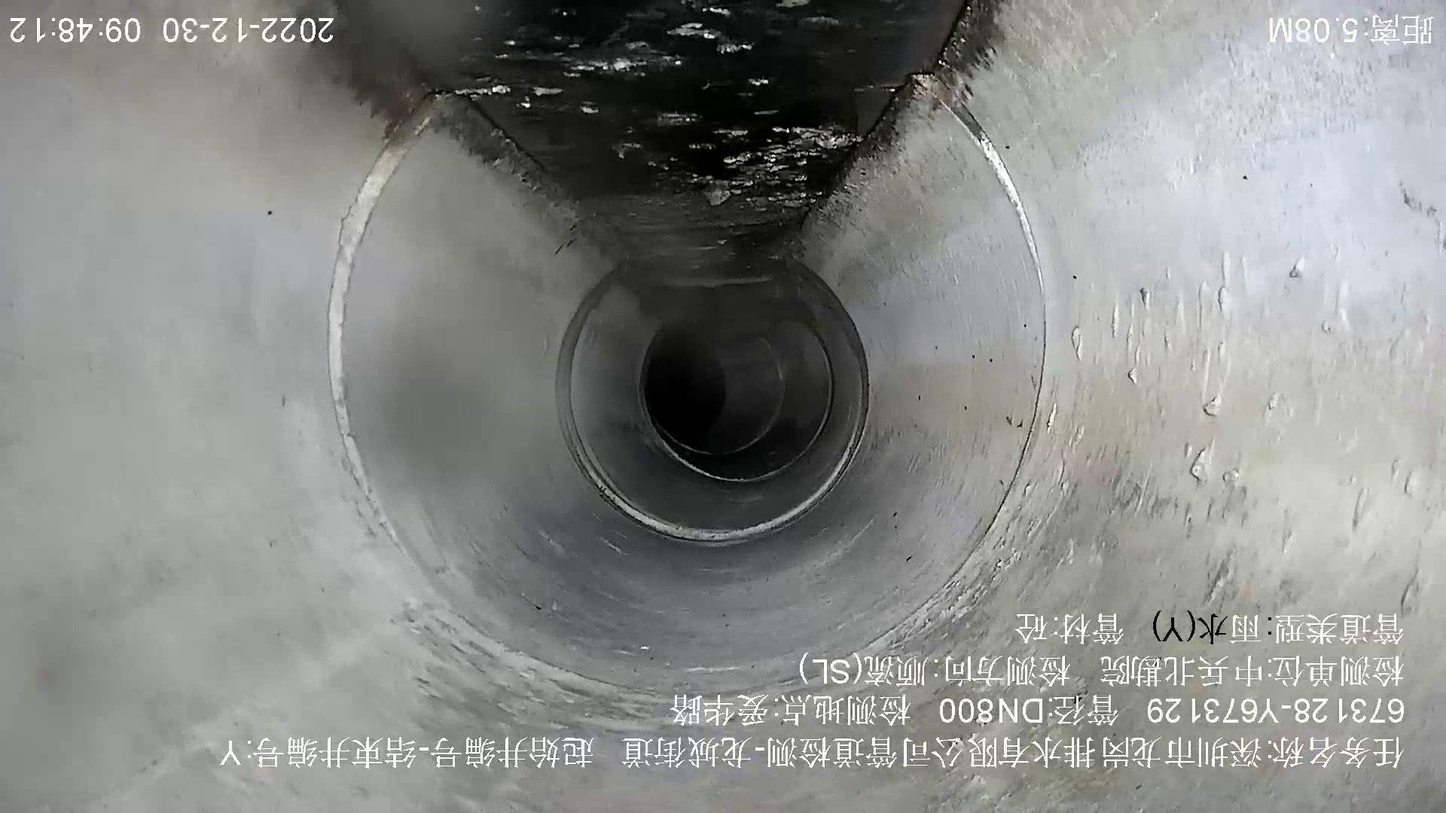CKTJ: (557, 276, 871, 545), (327, 98, 435, 555), (635, 320, 838, 486)
FZ: (361, 1, 962, 286), (920, 77, 1051, 425)
